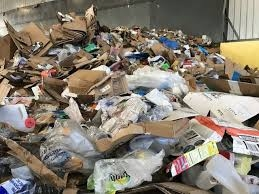paper: (91, 113, 181, 157), (180, 83, 259, 126), (94, 88, 153, 137), (165, 137, 222, 179), (3, 15, 52, 60), (47, 9, 93, 50), (61, 67, 113, 99), (221, 122, 259, 156)
plastic: (39, 116, 105, 178), (81, 144, 164, 190), (123, 62, 191, 98), (206, 153, 252, 194), (1, 103, 41, 139), (1, 163, 39, 194)
